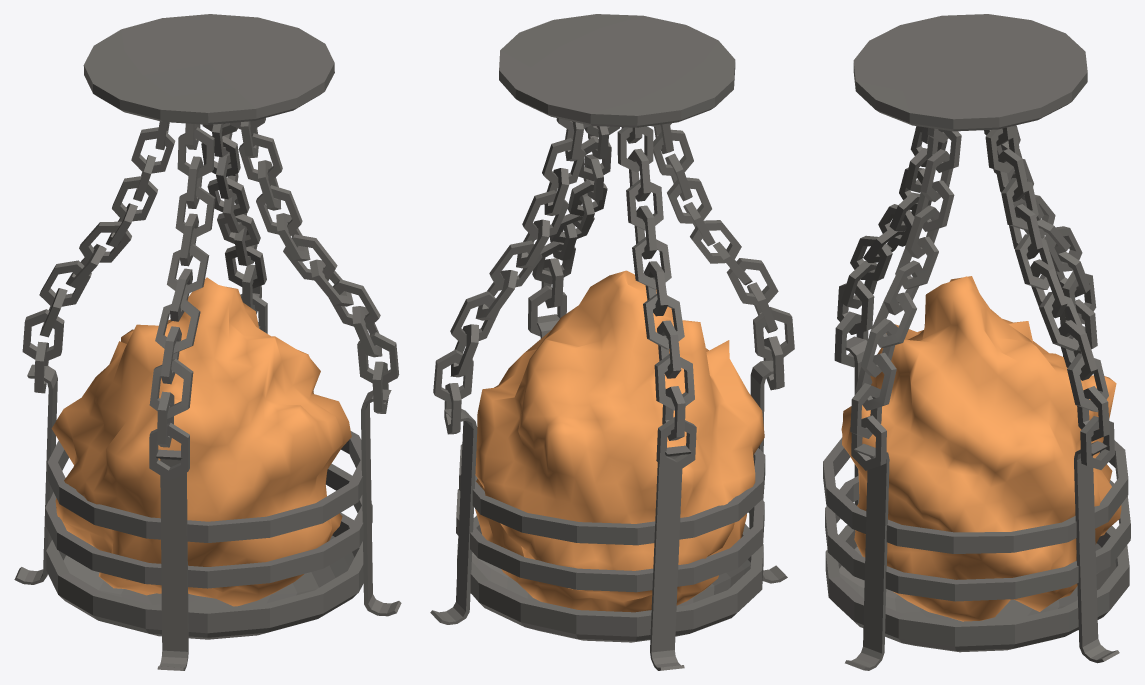
The model's file is JailCeilingTortch.fbx.
The picture shows the model from 3 angles, left to right: view 1: azimuth 30°, elevation 25°; view 2: azimuth 150°, elevation 25°; view 3: azimuth 270°, elevation 25°; orthographic projection.
Parts seen in each view (by area): view 1: CeilingTortch; view 2: CeilingTortch; view 3: CeilingTortch.
Boxes of the visible parts, x1,y1,x2,y2 form: CeilingTortch: (14, 14, 401, 670); CeilingTortch: (430, 14, 794, 670); CeilingTortch: (823, 14, 1130, 670).
Size of the model in its own units: 30.01 by 55.55 by 28.39.
